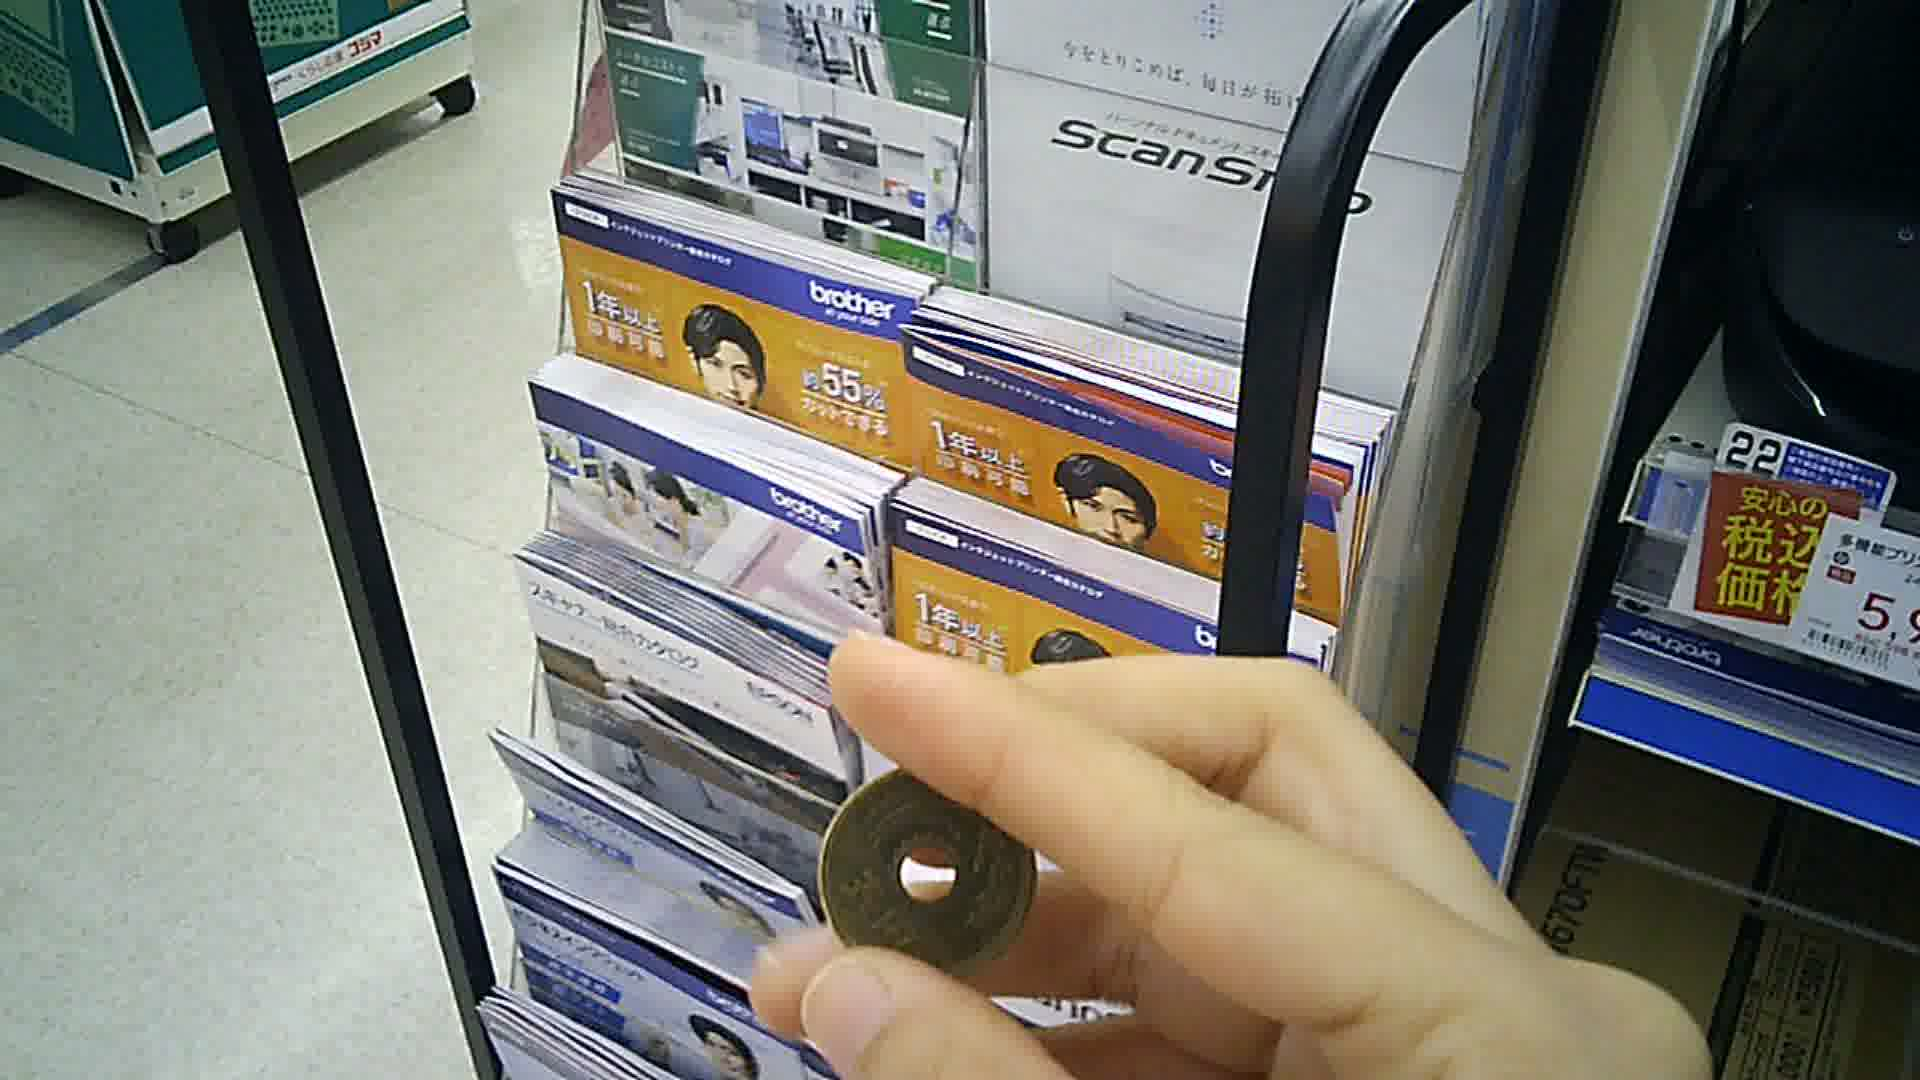5 Yen: (818, 752, 1040, 975)
